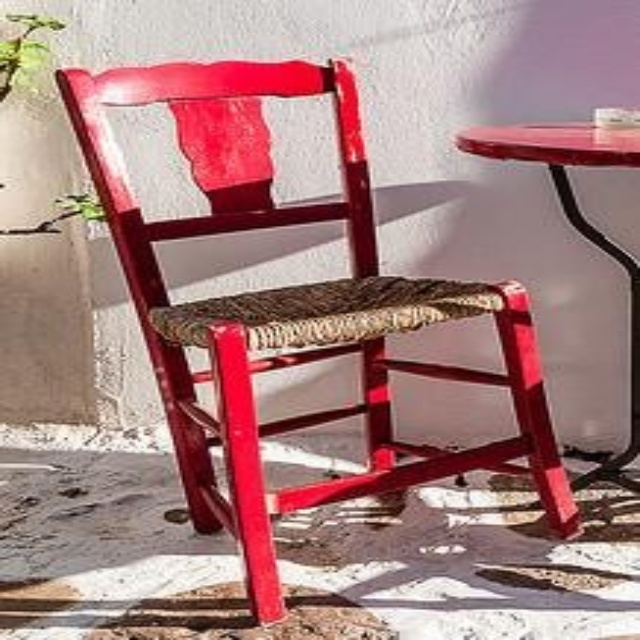obstacle: (56, 61, 578, 620)
